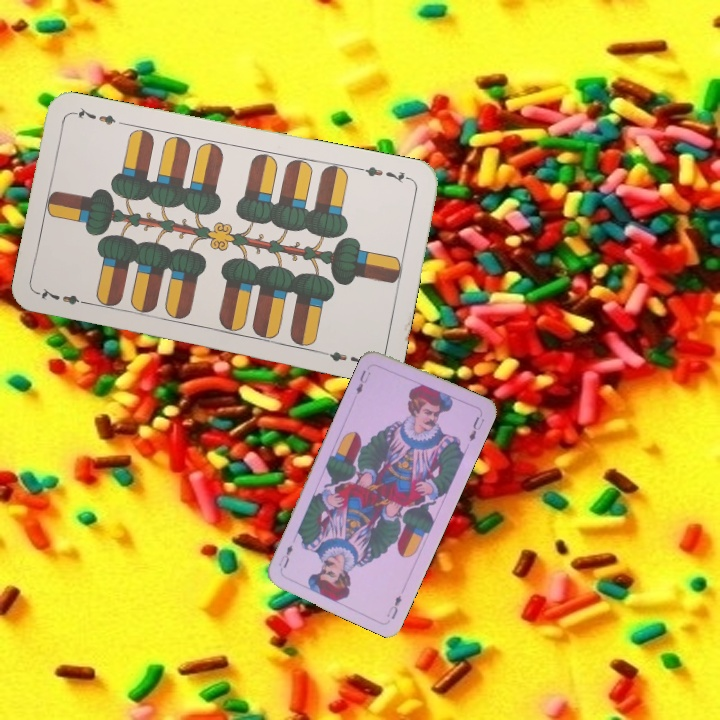E7: (35, 284, 94, 308), (355, 162, 414, 185)
EU: (352, 366, 373, 397), (383, 591, 404, 622)
